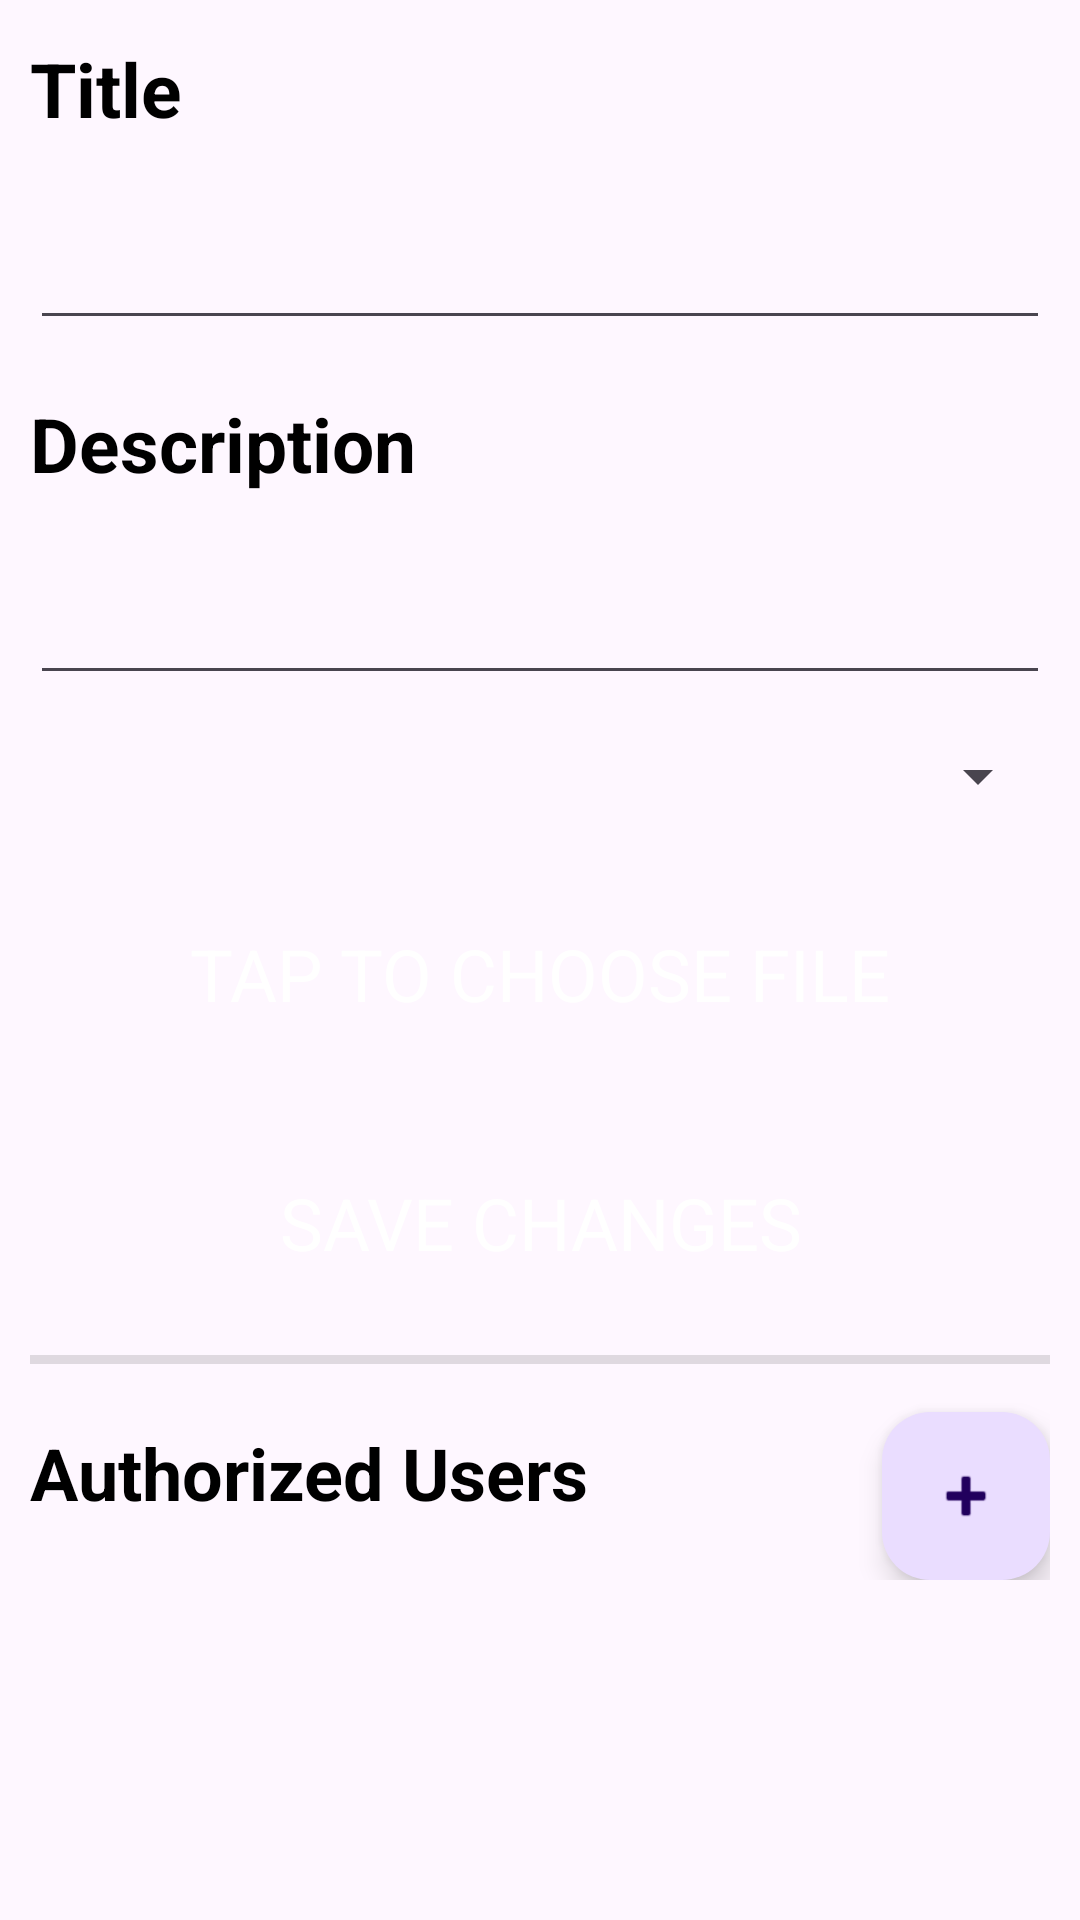

Where to tap for icons on this 1080px×1920px app screen, as point (x, y):
add: point (966, 1496)
